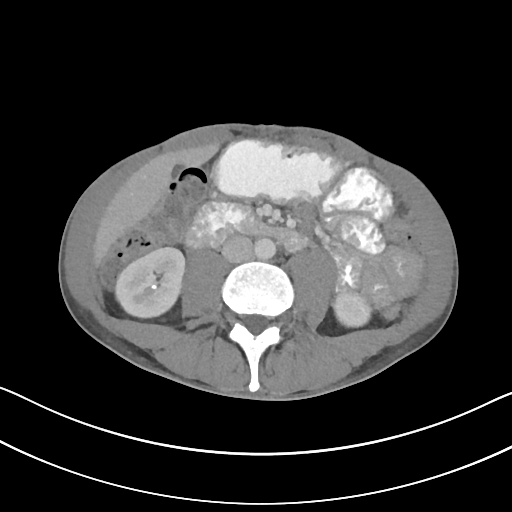Lesion: (148, 277, 160, 292)
